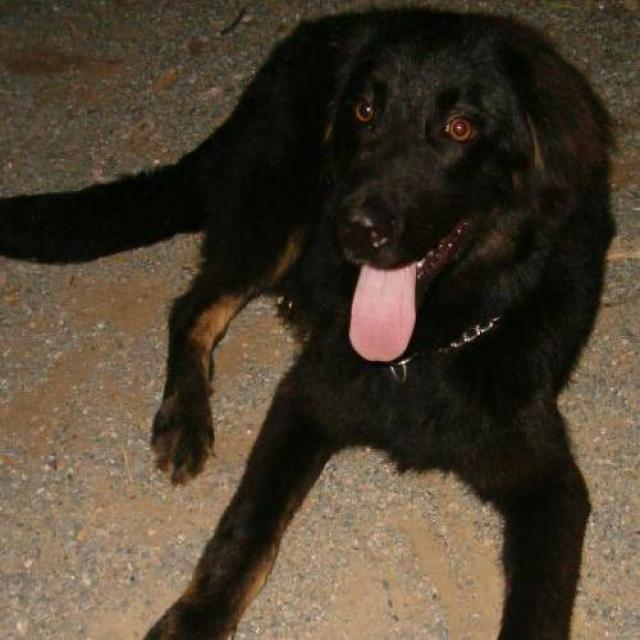dog: (0, 0, 620, 639)
